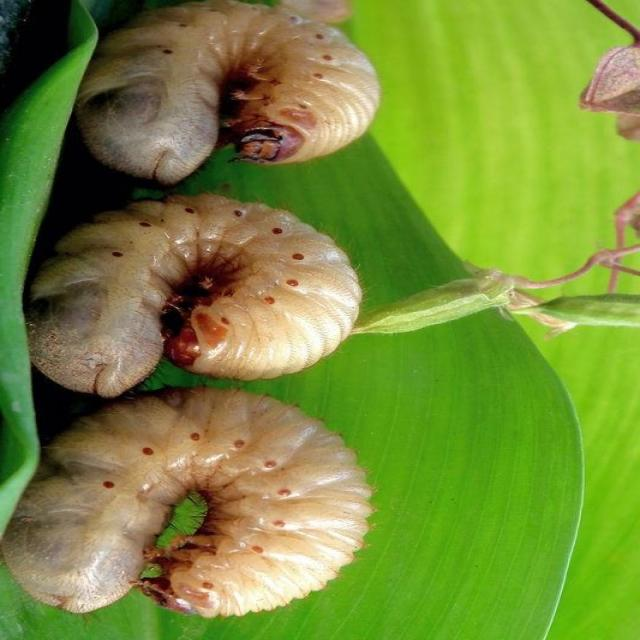grub: (8, 386, 371, 630), (28, 202, 377, 406), (73, 6, 379, 190)
